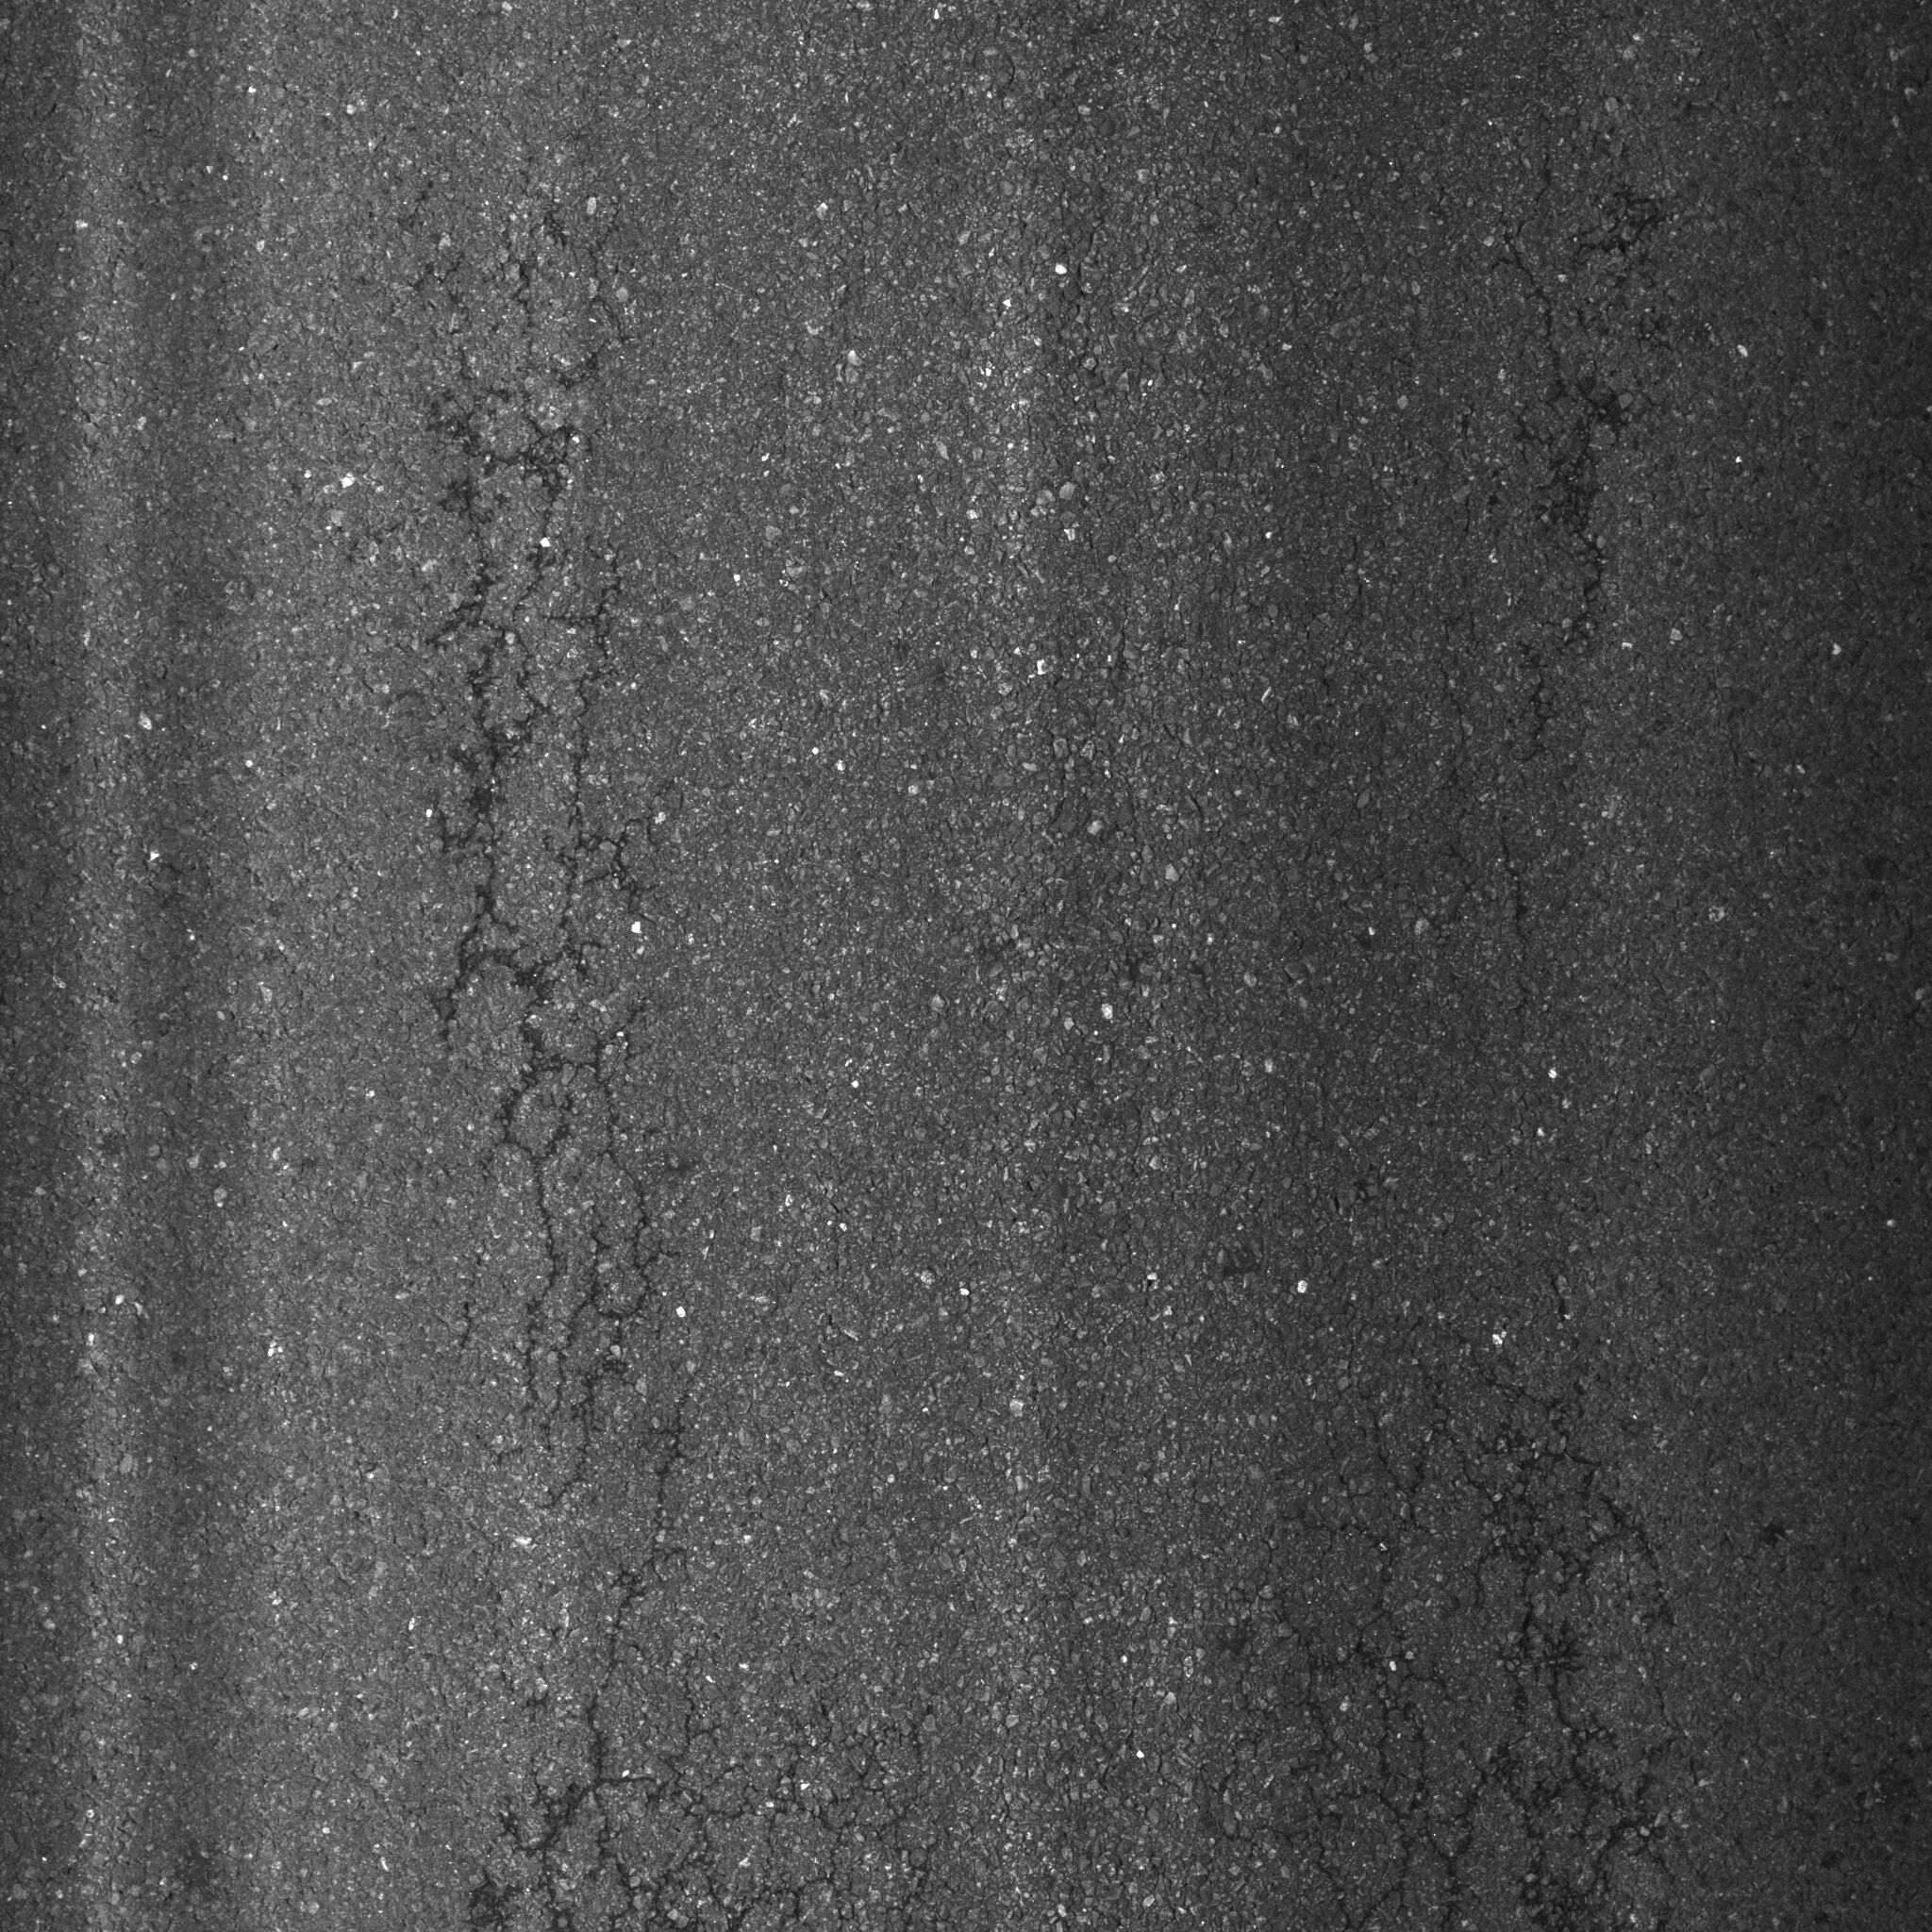alligator: (287, 142, 955, 1932), (1192, 1205, 1778, 1932)
